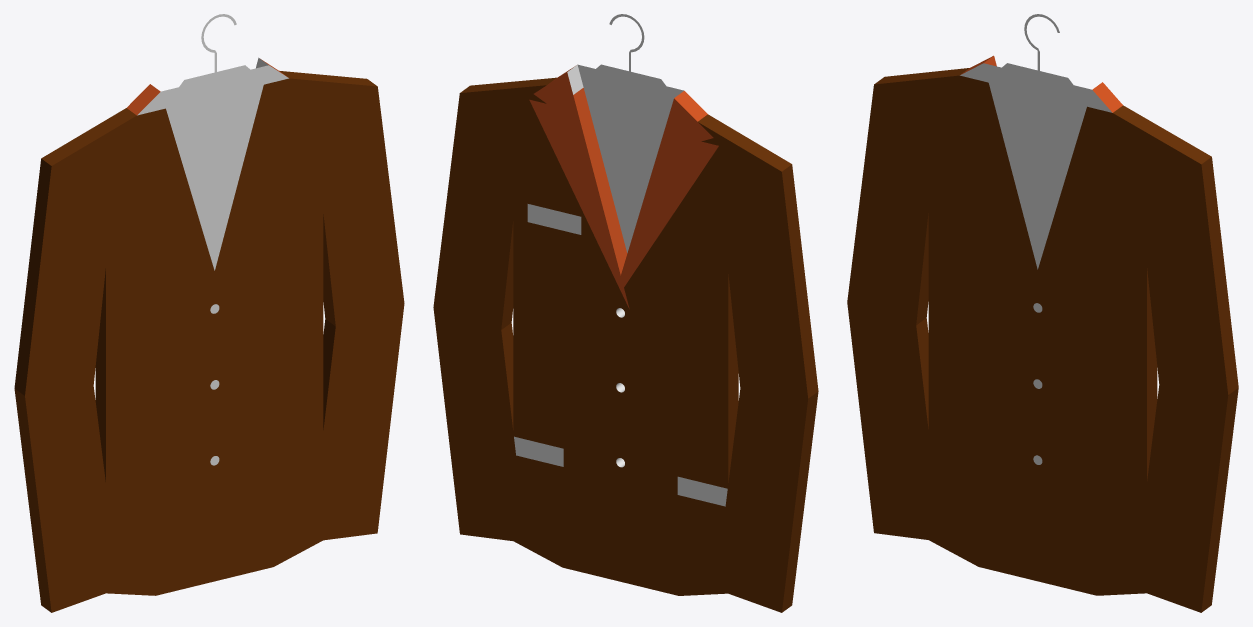
File: jacket-orange.dae
3 views of the same model, side by side, from view 1: azimuth 30°, elevation 25°; view 2: azimuth 150°, elevation 25°; view 3: azimuth 330°, elevation 25° (orthographic).
Visible parts, largest first — view 1: SketchUp_017, SketchUp_003, SketchUp, SketchUp_001, SketchUp_014; view 2: SketchUp_003, SketchUp_008, SketchUp, SketchUp_001, SketchUp_007, SketchUp_010, SketchUp_011, SketchUp_014; view 3: SketchUp_017, SketchUp, SketchUp_004, SketchUp_003, SketchUp_001, SketchUp_014, SketchUp_008.
Boxes of the visible parts, x1,y1,x2,y2 form: SketchUp_017: (25, 78, 404, 612); SketchUp_003: (14, 70, 376, 612); SketchUp: (166, 84, 263, 270); SketchUp_001: (161, 65, 268, 108); SketchUp_014: (179, 14, 249, 86); SketchUp_003: (433, 77, 818, 612); SketchUp_008: (529, 66, 718, 308); SketchUp: (582, 84, 671, 252); SketchUp_001: (577, 64, 683, 105); SketchUp_007: (527, 204, 581, 234); SketchUp_010: (677, 476, 727, 506); SketchUp_011: (514, 436, 563, 466); SketchUp_014: (596, 14, 665, 85); SketchUp_017: (847, 75, 1228, 612); SketchUp: (989, 83, 1086, 269); SketchUp_004: (1201, 157, 1238, 612); SketchUp_003: (874, 68, 1211, 480); SketchUp_001: (983, 63, 1091, 106); SketchUp_014: (1002, 14, 1073, 84); SketchUp_008: (961, 55, 1122, 112).
Size of the model in its own units: 0.532 by 0.0254 by 0.7578.
